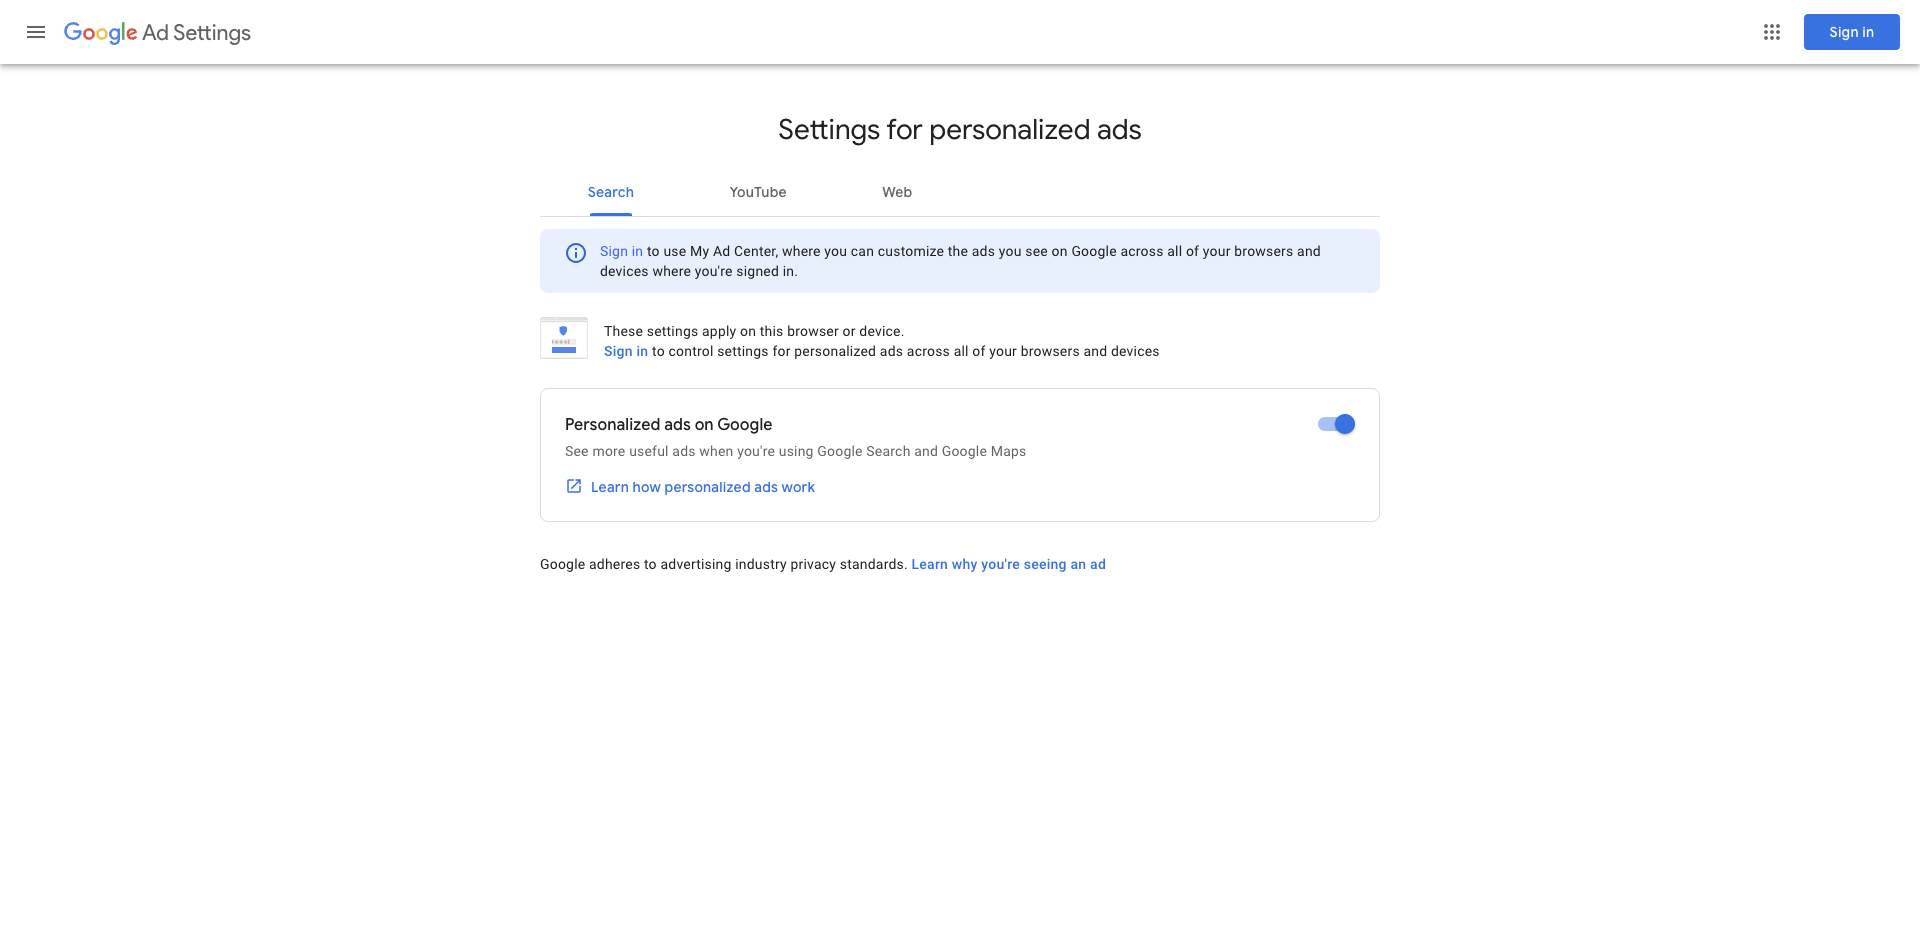button: (682, 168, 835, 216), (540, 168, 682, 216), (835, 168, 960, 216), (12, 9, 60, 56), (1752, 12, 1791, 51)
link: (564, 477, 816, 497), (64, 22, 251, 47), (1804, 13, 1900, 50), (911, 556, 1106, 572), (604, 343, 648, 359), (600, 243, 643, 259)
toggle: (1318, 414, 1356, 434)
